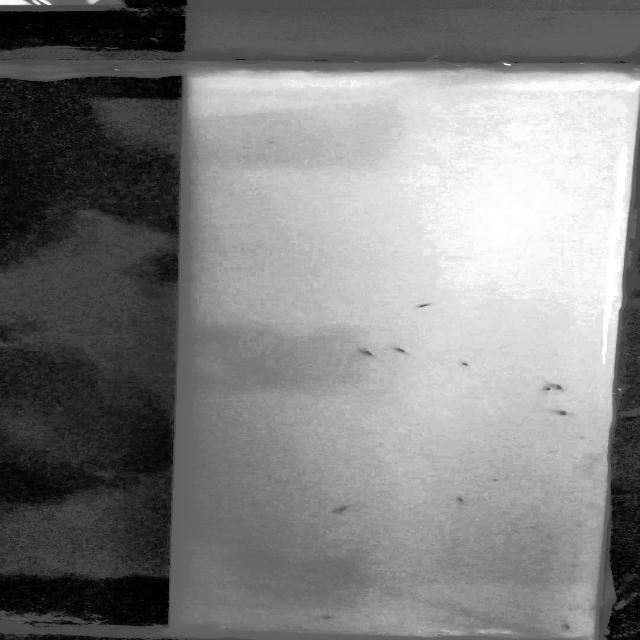shrimp: (352, 346, 388, 363), (407, 298, 448, 310), (550, 382, 578, 396), (532, 385, 562, 397), (389, 344, 415, 356), (329, 505, 355, 516), (314, 613, 344, 622), (454, 356, 473, 368), (550, 406, 572, 416), (558, 618, 575, 630), (453, 496, 468, 507)
